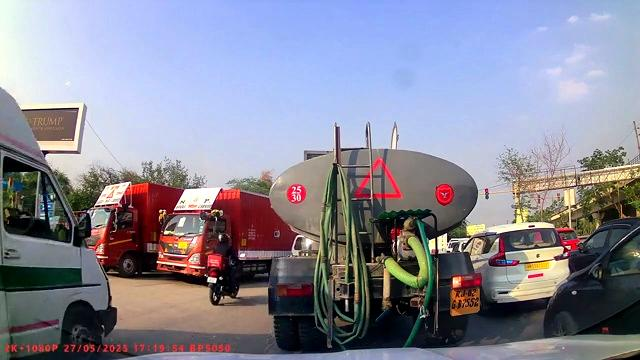motorcycle_with_helmet: (205, 231, 241, 306)
